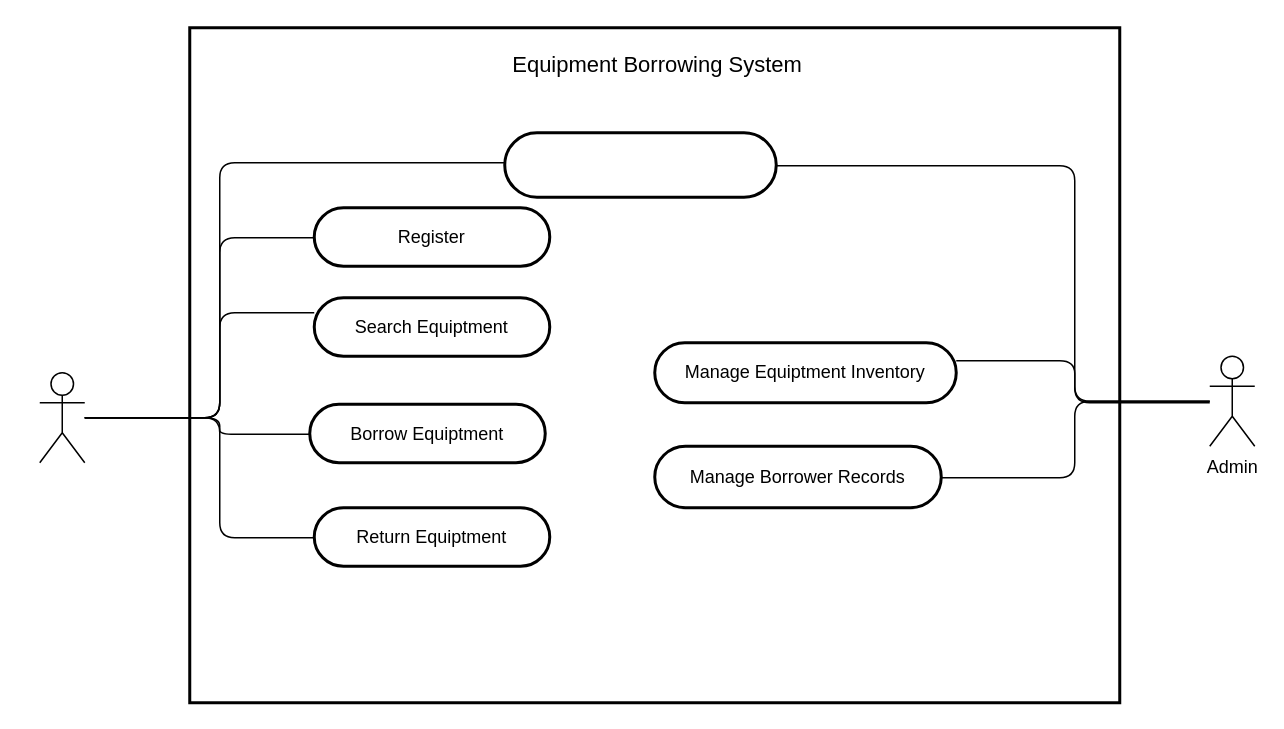
Some shapes in this 1284 by 729 pixel diagram are drawn without their labels. Here are the shapes that lost their labels. From the top down, the centre of each, then its label:
At point (639, 164): "Login".
At point (61, 417): "Borrower".
